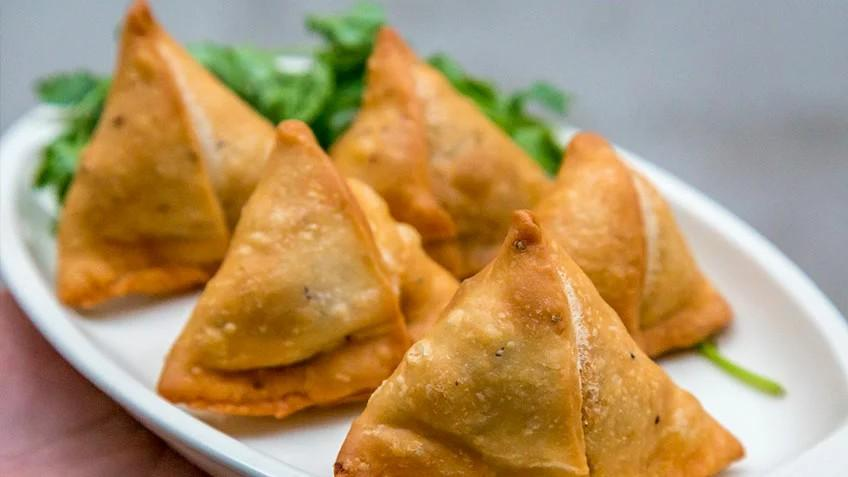Samosa: (325, 214, 743, 477), (159, 116, 462, 421), (58, 1, 277, 314), (322, 23, 555, 278), (488, 133, 735, 362)
